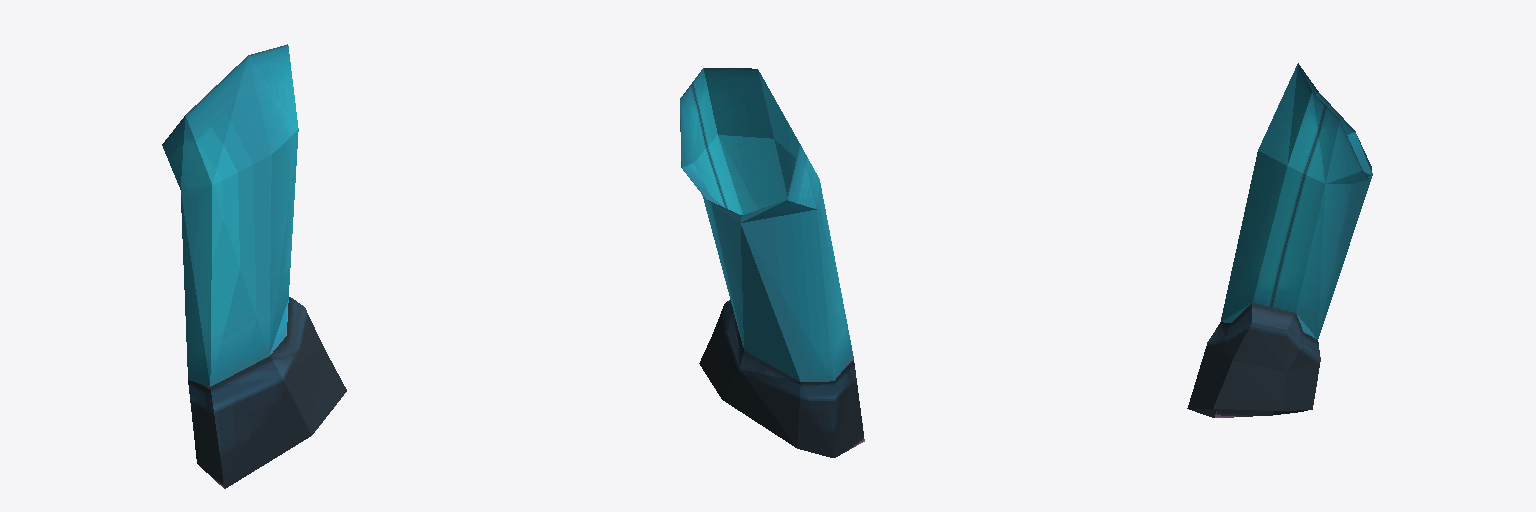
3 views of the same model, side by side, from view 1: azimuth 30°, elevation 25°; view 2: azimuth 150°, elevation 25°; view 3: azimuth 270°, elevation 25° (orthographic).
Visible parts, largest first — view 1: Pierna_izquierda016, Pierna_izquierda015, Pierna_izquierda017; view 2: Pierna_izquierda016, Pierna_izquierda015, Pierna_izquierda017; view 3: Pierna_izquierda016, Pierna_izquierda015, Pierna_izquierda017.
Boxes of the visible parts, <box> form: Pierna_izquierda016: <box>162,44,298,386</box>; Pierna_izquierda015: <box>188,297,322,488</box>; Pierna_izquierda017: <box>312,346,346,434</box>; Pierna_izquierda016: <box>680,68,853,381</box>; Pierna_izquierda015: <box>712,300,864,457</box>; Pierna_izquierda017: <box>699,337,721,398</box>; Pierna_izquierda016: <box>1221,63,1372,339</box>; Pierna_izquierda015: <box>1187,303,1320,417</box>; Pierna_izquierda017: <box>1188,361,1311,410</box>.
Bounding box in the file's own units: 0.9392 × 2.59 × 1.12.
Materials: 1 (1 with a texture image).